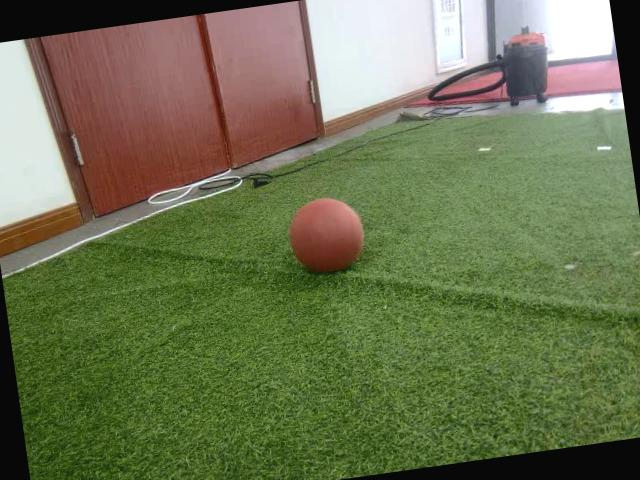red_ball: (282, 192, 368, 280)
